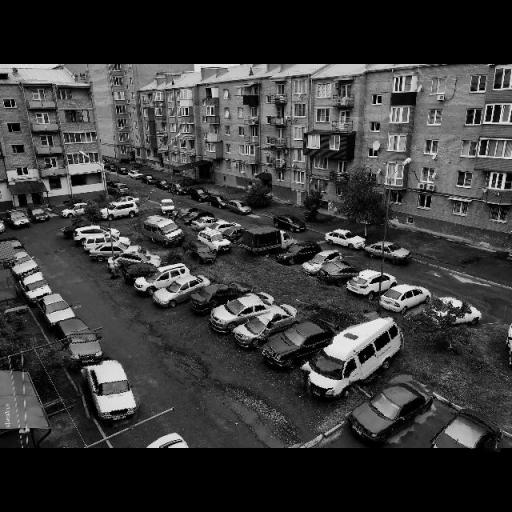busy: (298, 321, 410, 399), (344, 380, 432, 444), (75, 355, 146, 426), (265, 316, 333, 372), (413, 411, 504, 450), (236, 303, 294, 351), (210, 291, 270, 336), (428, 295, 486, 332), (230, 221, 286, 254), (38, 294, 86, 332), (65, 328, 108, 370), (190, 283, 242, 317), (142, 212, 188, 250), (158, 274, 206, 306), (139, 264, 184, 296), (379, 284, 429, 311), (116, 252, 160, 282), (363, 238, 410, 264), (347, 268, 389, 296), (274, 238, 316, 266), (109, 248, 152, 274), (121, 434, 196, 448), (320, 259, 360, 285), (92, 242, 138, 264), (9, 250, 41, 281), (302, 250, 341, 274), (184, 240, 218, 266), (270, 210, 308, 233), (326, 228, 365, 250), (22, 271, 48, 303), (198, 230, 231, 252), (190, 212, 216, 230), (30, 206, 50, 224), (11, 208, 27, 230)
free: (412, 258, 450, 276), (250, 210, 278, 224)
